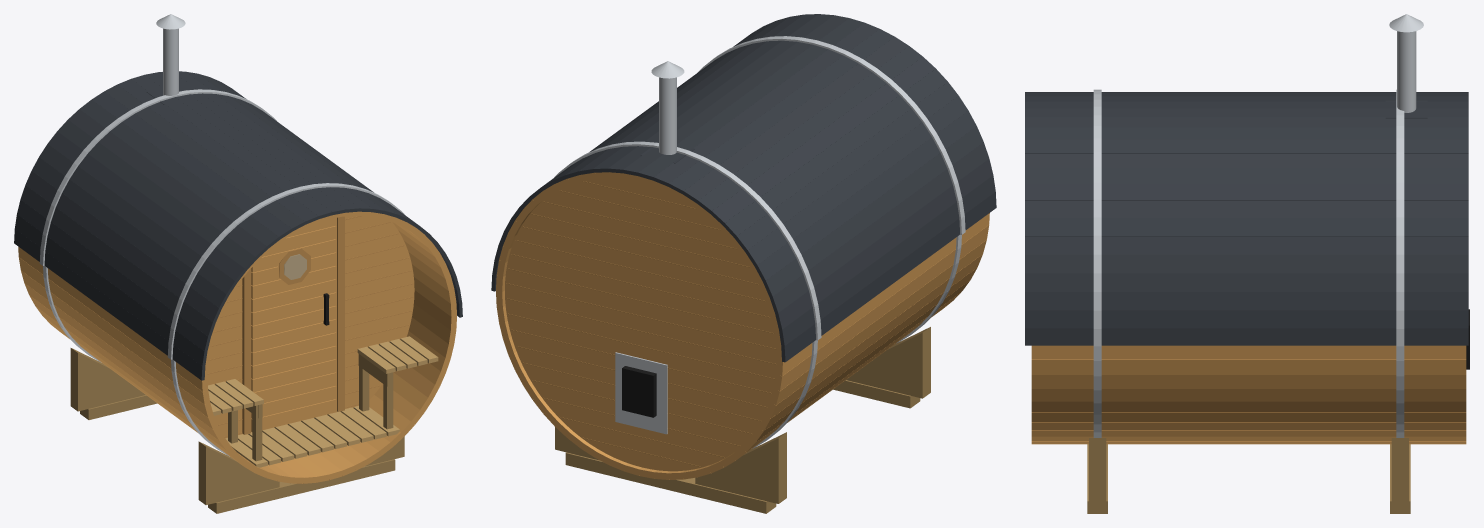
Rendered from баня_бочка_2_2_м_с_террасой_0_5_м_печь_каменка_бак_лавки.glb.
3 views of the same model, side by side, from view 1: azimuth 30°, elevation 25°; view 2: azimuth 150°, elevation 25°; view 3: azimuth 270°, elevation 25° (orthographic). The views are drawn at different scales.
Visible parts, largest first — view 1: roof, walls, barrel, floor; view 2: roof, walls, barrel; view 3: roof, walls, barrel.
Part boxes in pixels (left/top/right/bottom): roof: left=14, top=71, right=462, bottom=380; walls: left=18, top=215, right=456, bottom=483; barrel: left=43, top=14, right=404, bottom=513; floor: left=208, top=336, right=438, bottom=467; roof: left=491, top=14, right=996, bottom=362; walls: left=496, top=178, right=989, bottom=479; barrel: left=555, top=61, right=961, bottom=513; roof: left=1025, top=89, right=1468, bottom=346; walls: left=1031, top=345, right=1466, bottom=444; barrel: left=1087, top=14, right=1469, bottom=513.
Size of the model in its own units: 2.07 by 2.84 by 2.56.
